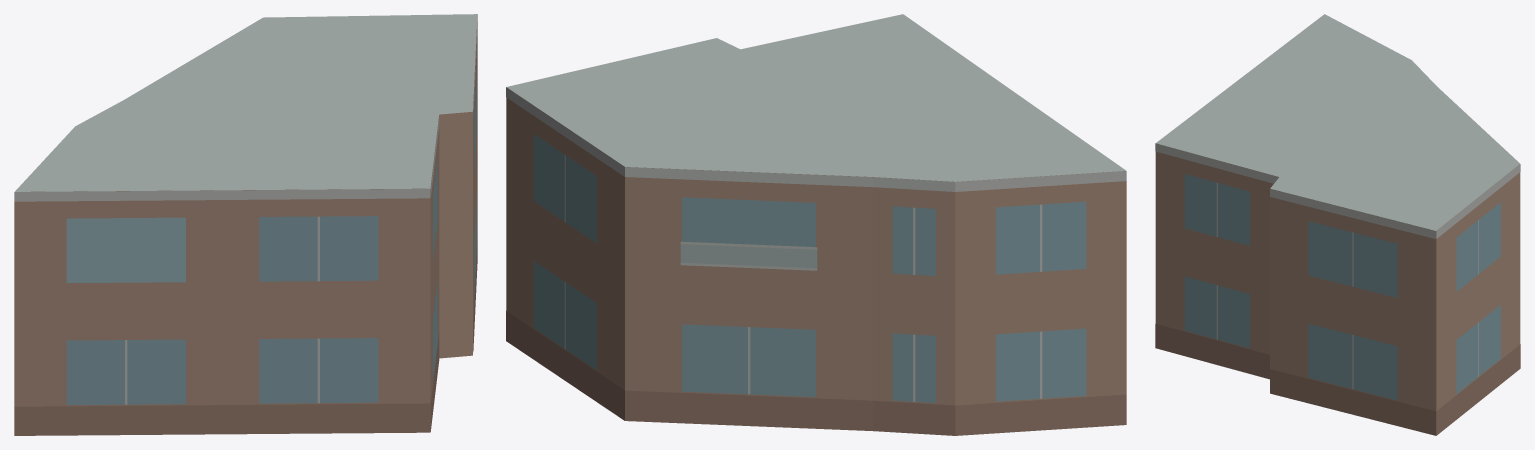
Rendered from survey-upis-33033806.glb.
The picture shows the model from 3 angles, left to right: view 1: azimuth 30°, elevation 25°; view 2: azimuth 150°, elevation 25°; view 3: azimuth 270°, elevation 25°; orthographic projection. The views are drawn at different scales.
Parts seen in each view (by area): view 1: survey-upis-33033806.tmp; view 2: survey-upis-33033806.tmp; view 3: survey-upis-33033806.tmp.
Part boxes in pixels (left/top/right/bottom): survey-upis-33033806.tmp: left=14, top=14, right=477, bottom=435; survey-upis-33033806.tmp: left=506, top=14, right=1126, bottom=435; survey-upis-33033806.tmp: left=1155, top=14, right=1520, bottom=435.
Size of the model in its own units: 13.87 by 6.1 by 9.86.
